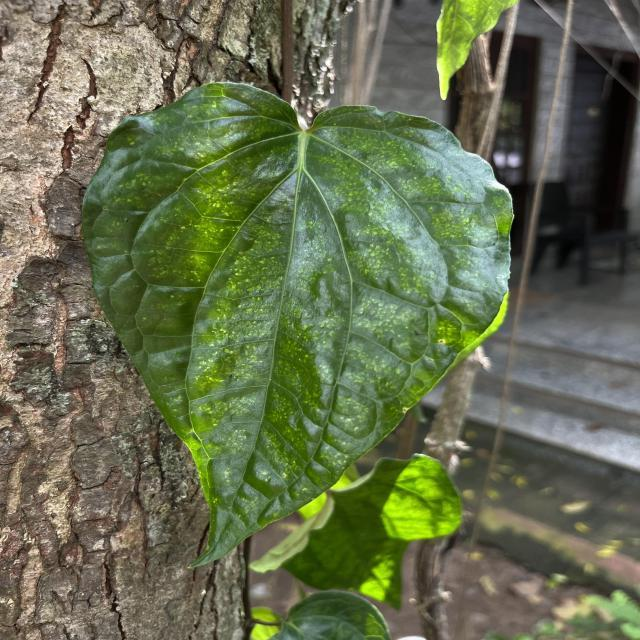Piper betle: (78, 77, 520, 574)
